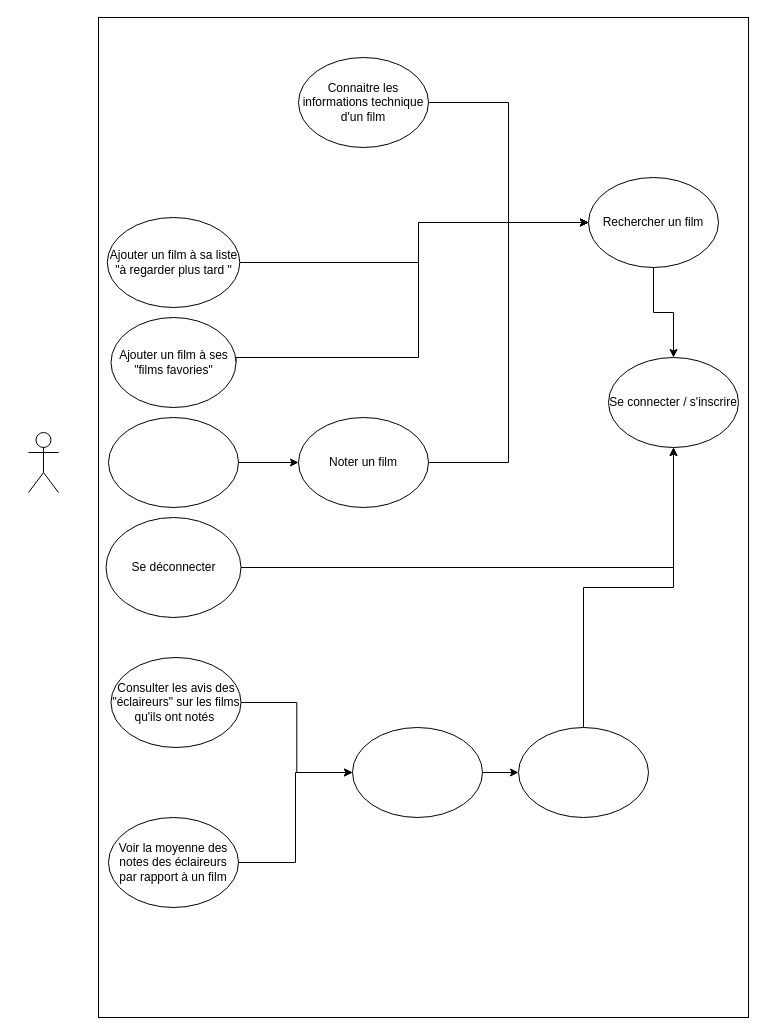
Image size: 766x1035. Some labels were removed from this diagram. The centre of each missing label's shape, as x and y in pixels:
Ajouter des "éclaireurs" à sa listes: (x=417, y=772)
Modifier la note: (x=173, y=462)
Rechercher d'autres utilisateurs: (x=583, y=772)
Utilisateur: (x=43, y=462)
